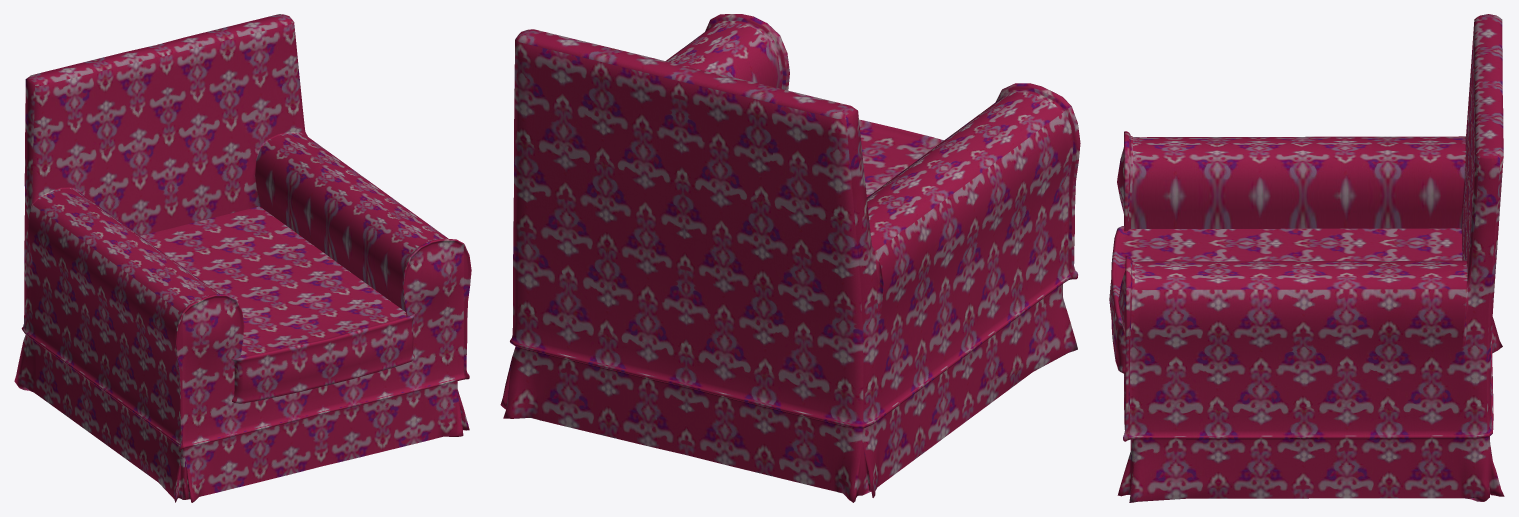
File: IKEA-Ektorp_Armchair_Vallsta_Red-3D.obj
3 views of the same model, side by side, from view 1: azimuth 30°, elevation 25°; view 2: azimuth 150°, elevation 25°; view 3: azimuth 270°, elevation 25° (orthographic). The views are drawn at different scales.
Visible parts, largest first — view 1: Cylinder04; view 2: Cylinder04; view 3: Cylinder04.
Part boxes in pixels (box(x1,y1,x2,y2)): Cylinder04: box(14, 14, 471, 502); Cylinder04: box(500, 14, 1080, 502); Cylinder04: box(1109, 14, 1504, 502).
Bounding box in the file's own units: 837 × 824 × 863.
